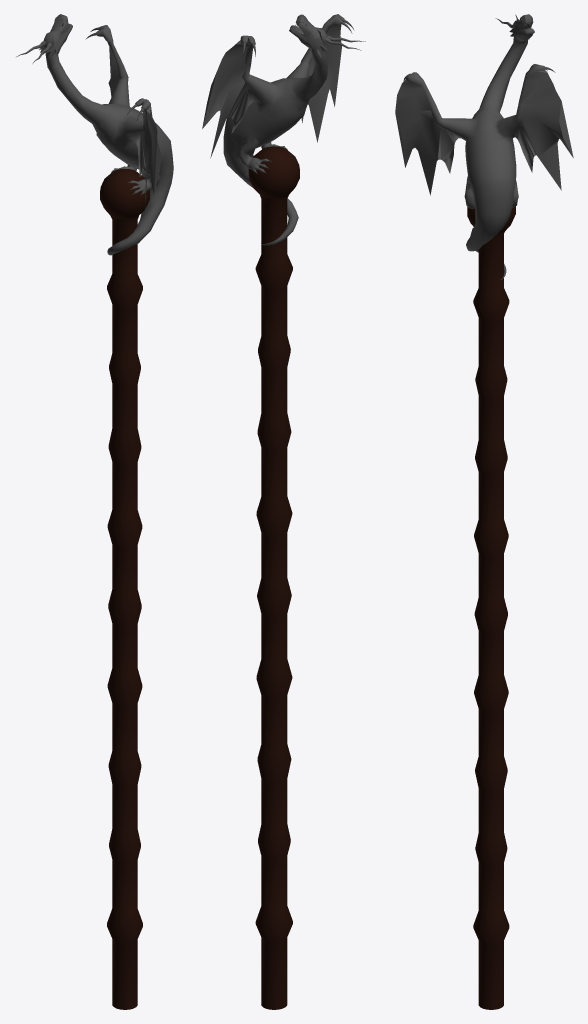
Rendered from DragonStaff.FBX.
The picture shows the model from 3 angles, left to right: view 1: azimuth 30°, elevation 25°; view 2: azimuth 150°, elevation 25°; view 3: azimuth 270°, elevation 25°; orthographic projection. The views are drawn at different scales.
Parts seen in each view (by area): view 1: staff, Dragon; view 2: staff, Dragon; view 3: staff, Dragon.
Boxes of the visible parts, bbox=[...] form: staff: bbox=[100, 168, 149, 1009]; Dragon: bbox=[16, 14, 173, 255]; staff: bbox=[248, 146, 299, 1009]; Dragon: bbox=[202, 14, 365, 245]; staff: bbox=[467, 206, 515, 1009]; Dragon: bbox=[395, 14, 573, 280].
Bounding box in the file's own units: 0.2751 × 1.79 × 0.2992.
